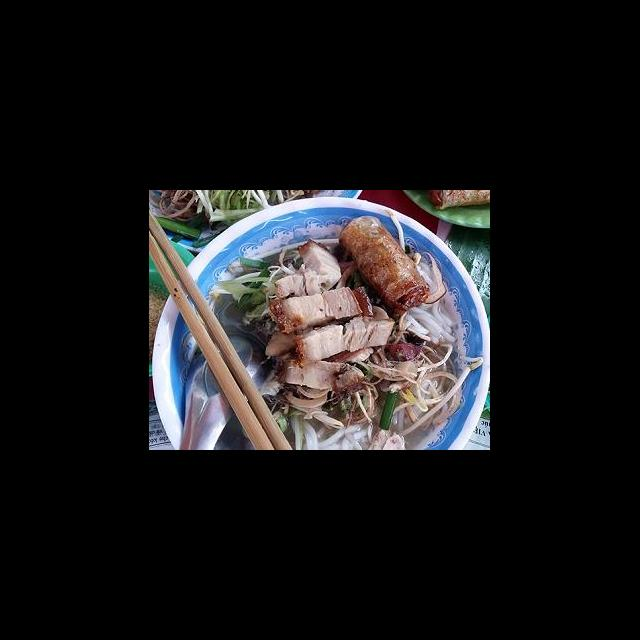bun: (388, 298, 461, 434), (284, 401, 378, 450)
cha gio: (337, 212, 432, 318)
thit heo quay: (292, 311, 398, 370), (266, 283, 378, 336), (272, 235, 346, 302), (274, 356, 368, 394)
